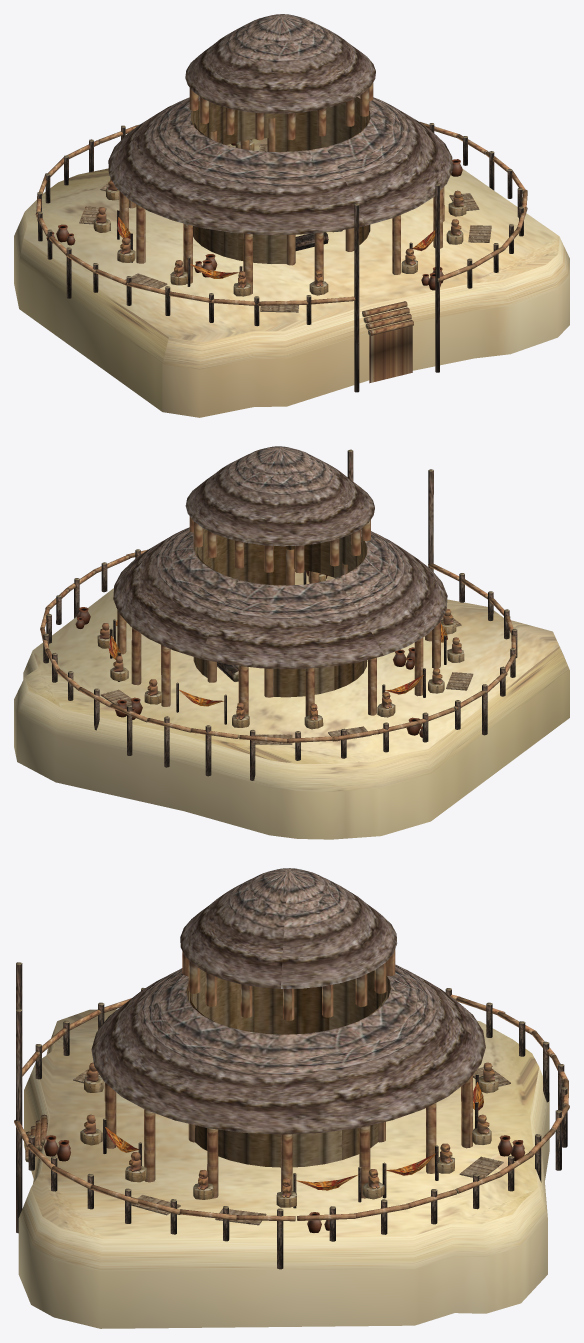
File: templo_1.dae
3 renders of one model, top to bottom at view 1: azimuth 30°, elevation 25°; view 2: azimuth 150°, elevation 25°; view 3: azimuth 270°, elevation 25°, orthographic. The views are drawn at different scales.
Parts seen in each view (by area): view 1: templo_1; view 2: templo_1; view 3: templo_1.
Part boxes in pixels (<box>): templo_1: <box>14,14,569,417</box>; templo_1: <box>14,446,569,839</box>; templo_1: <box>14,868,569,1328</box>.
Size of the model in its own units: 40.17 by 38.57 by 25.75.
